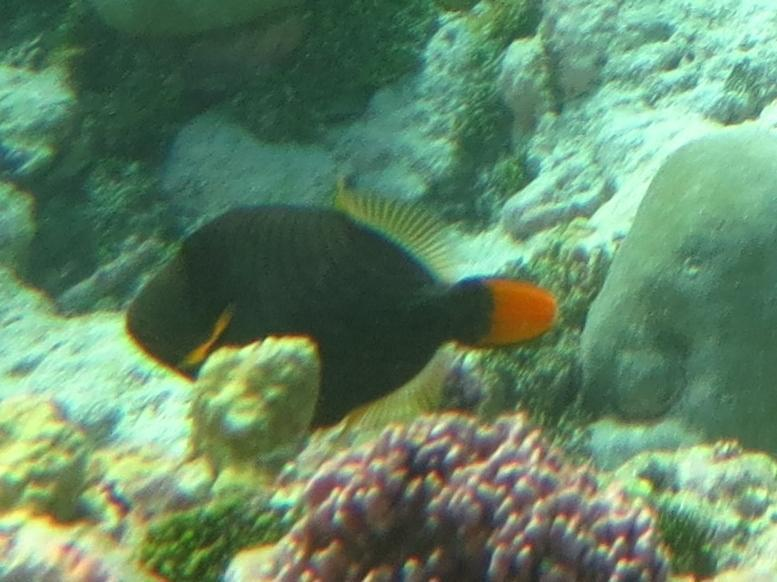Fish: (120, 168, 563, 428)
